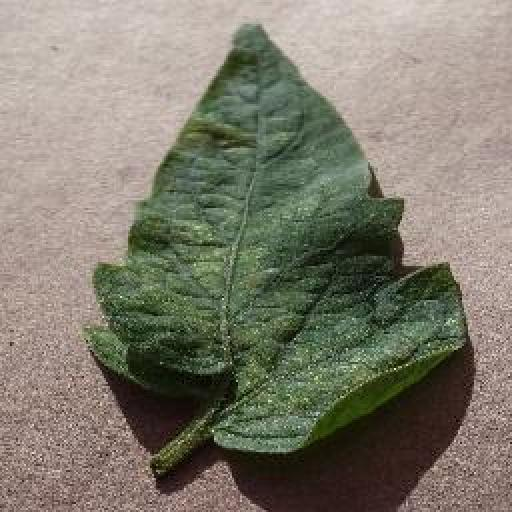disease_tomato: (80, 20, 467, 456)
